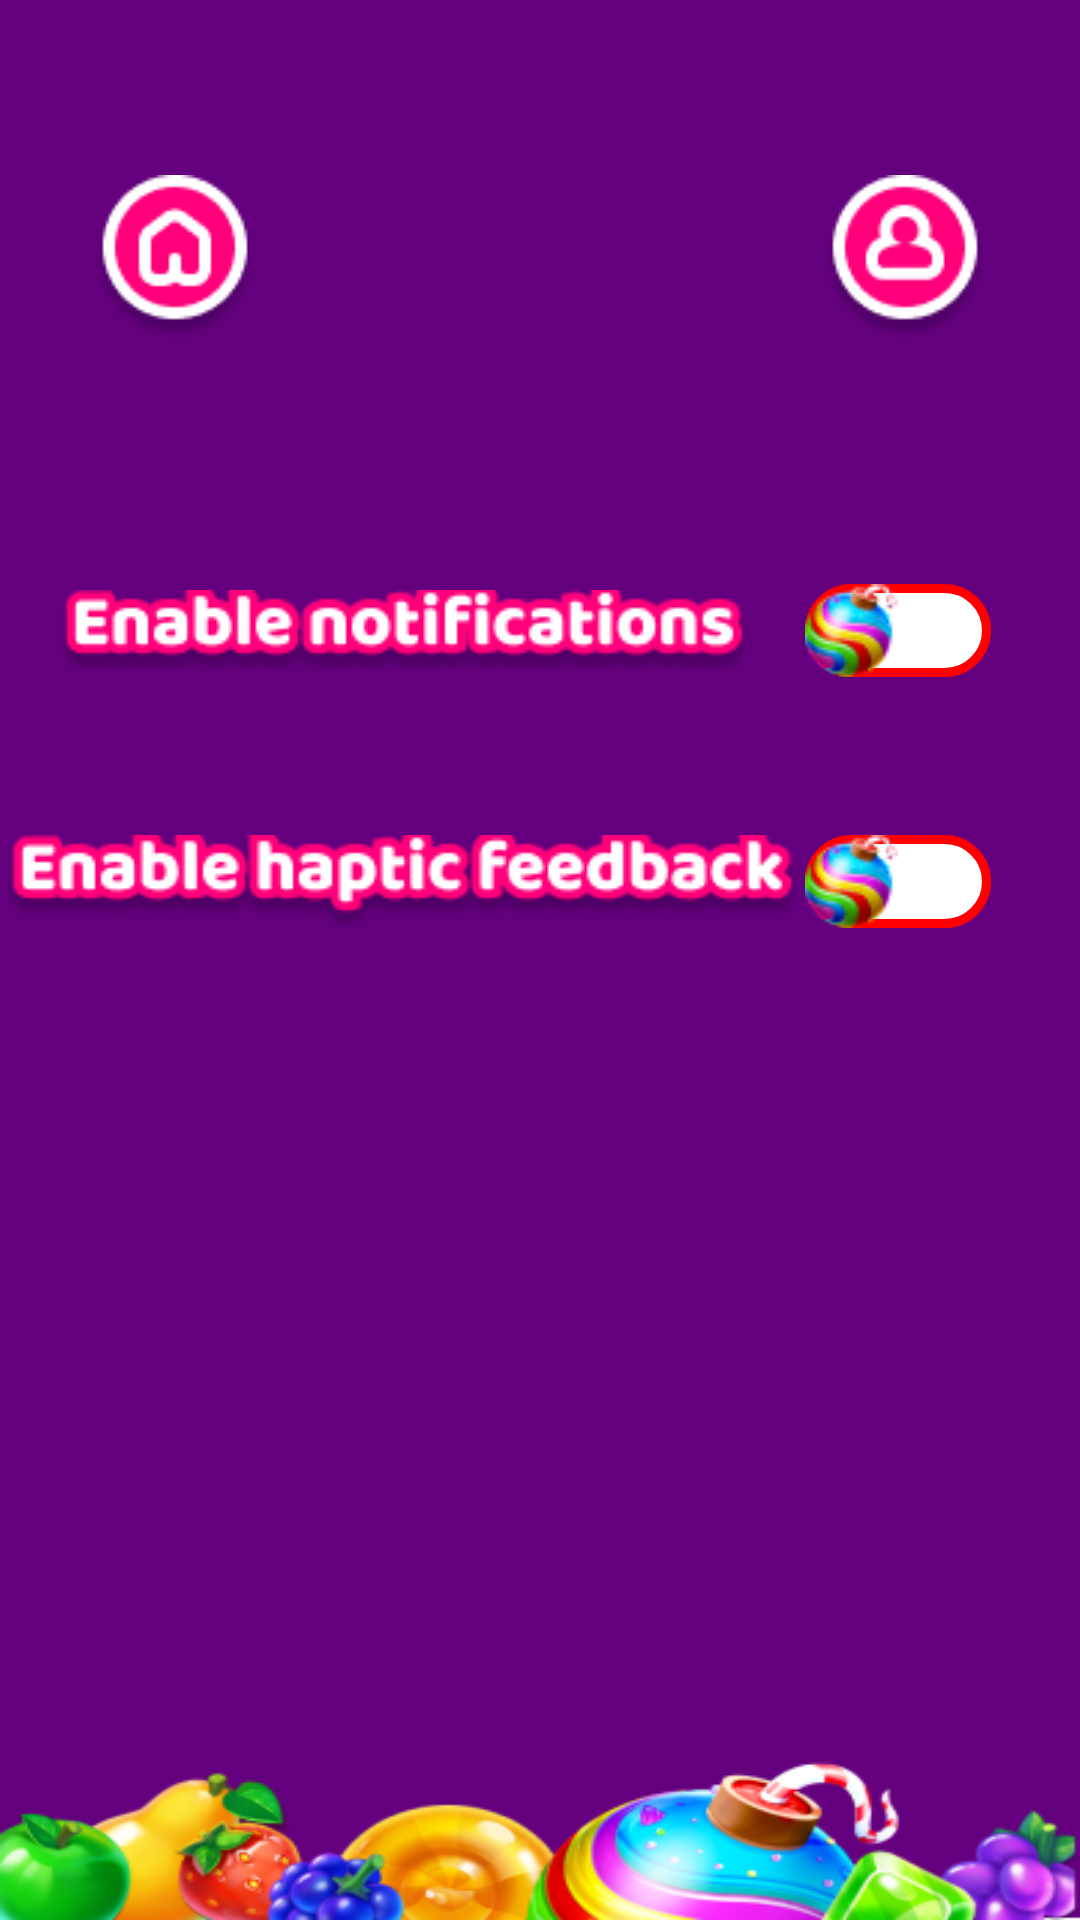

Screen size 1080x1920. Icon name, then its box in pixels as [x1,y1,x2,y2]:
home: [102,175,248,323]
profile: [832,175,978,323]
